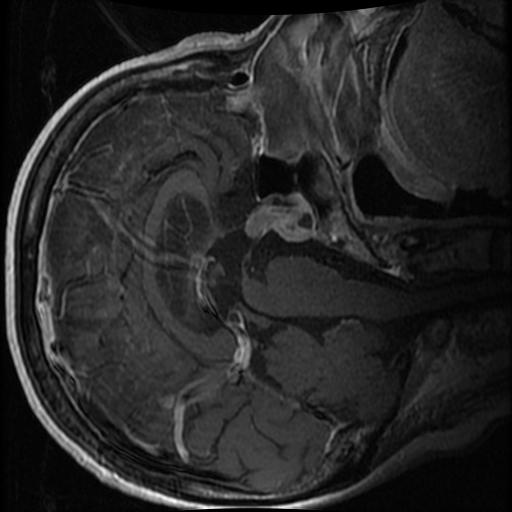pituitary tumour: (241, 191, 318, 244)
